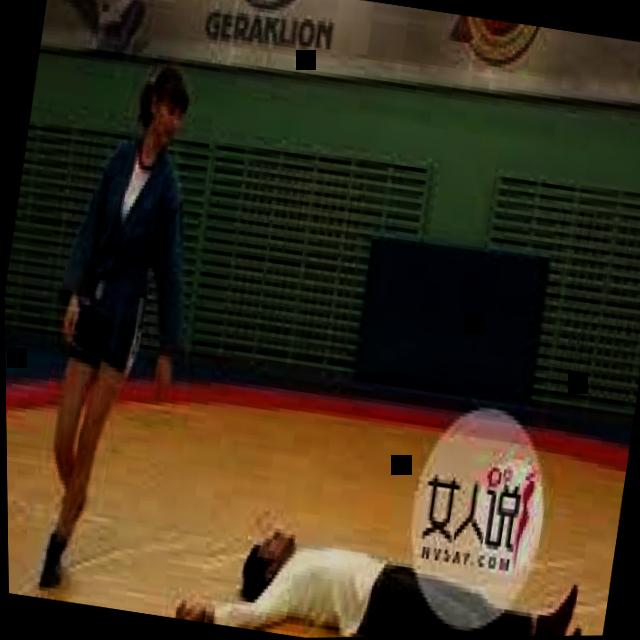Fall-Detected: (165, 474, 608, 639)
